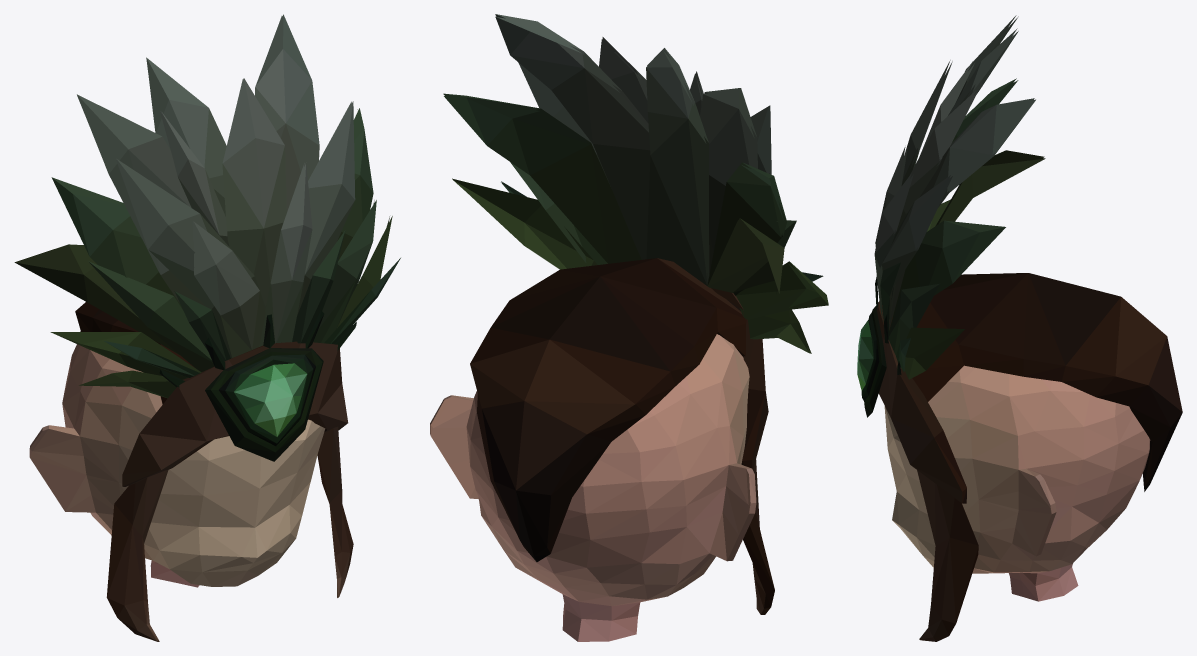
File: helm_lightskin_bald_headress.fbx
The picture shows the model from 3 angles, left to right: view 1: azimuth 30°, elevation 25°; view 2: azimuth 150°, elevation 25°; view 3: azimuth 270°, elevation 25°; orthographic projection. The views are drawn at different scales.
Parts seen in each view (by area): view 1: helm_lightskin_bald_headress; view 2: helm_lightskin_bald_headress; view 3: helm_lightskin_bald_headress.
Boxes of the visible parts, left/top/right/bottom form: helm_lightskin_bald_headress: left=14, top=14, right=400, bottom=641; helm_lightskin_bald_headress: left=430, top=14, right=828, bottom=641; helm_lightskin_bald_headress: left=857, top=15, right=1182, bottom=641.
Size of the model in its own units: 1.29 by 1.95 by 1.06.
